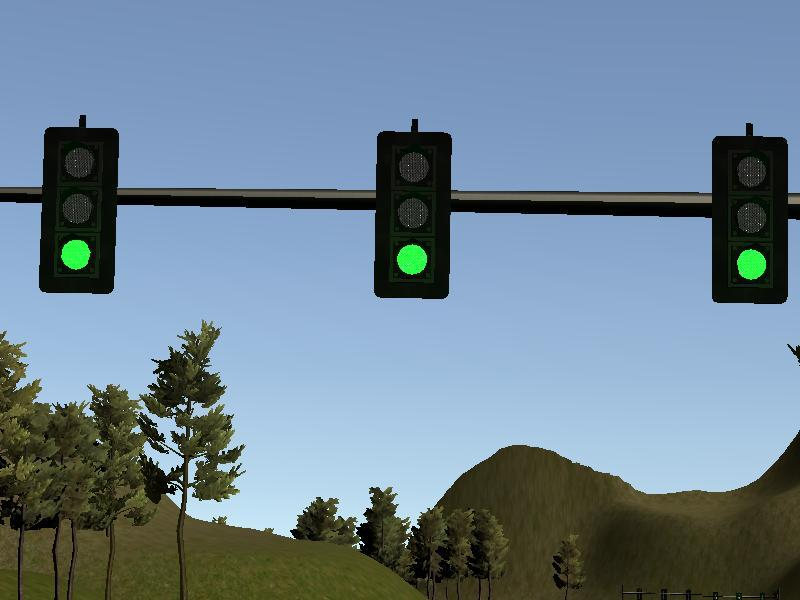Green: (712, 137, 788, 301), (41, 130, 114, 290), (376, 131, 447, 295)
